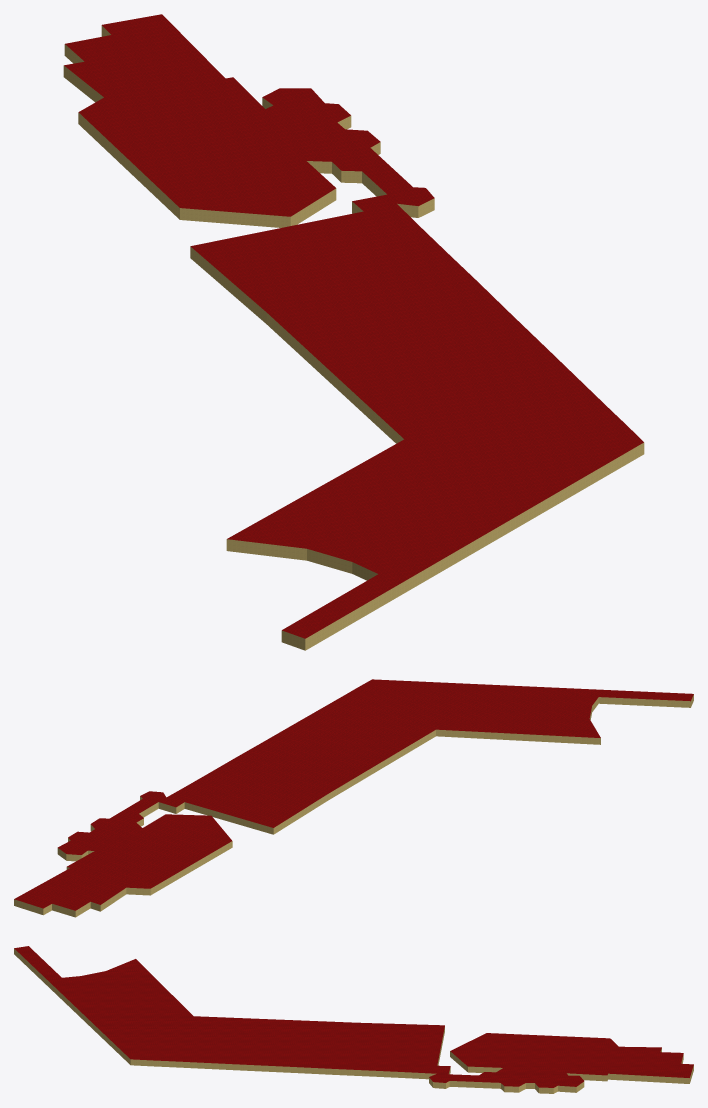
The model's file is VECC.gltf.
3 views of the same model, one above another, from view 1: azimuth 30°, elevation 25°; view 2: azimuth 150°, elevation 25°; view 3: azimuth 270°, elevation 25° (orthographic). The views are drawn at different scales.
Visible parts, largest first — view 1: Building Integrated Terminal, Building Domestic Terminal; view 2: Building Integrated Terminal, Building Domestic Terminal; view 3: Building Integrated Terminal, Building Domestic Terminal.
Part boxes in pixels (box(x1,y1,x2,y2)): Building Integrated Terminal: box(190, 194, 644, 650); Building Domestic Terminal: box(63, 14, 434, 227); Building Integrated Terminal: box(158, 679, 693, 834); Building Domestic Terminal: box(14, 791, 232, 917); Building Integrated Terminal: box(14, 946, 450, 1079); Building Domestic Terminal: box(429, 1033, 693, 1093).
Bounding box in the file's own units: 383 × 7.5 × 774.
Materials: 2 (2 with a texture image).
